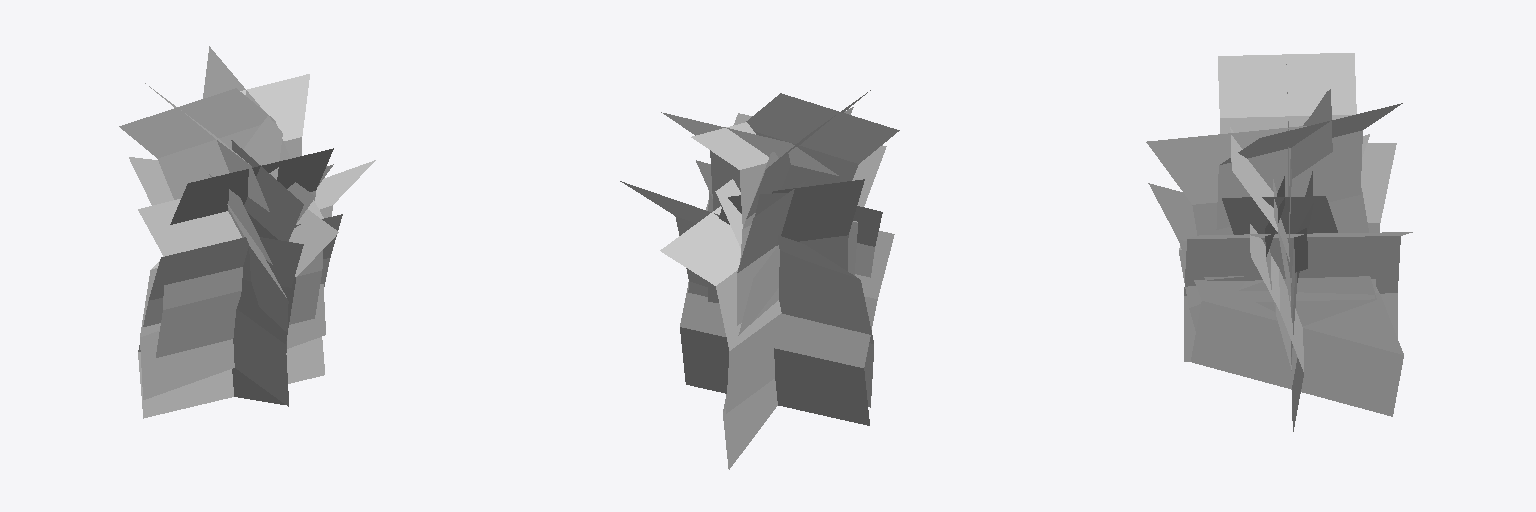
The picture shows the model from 3 angles: view 1: azimuth 30°, elevation 25°; view 2: azimuth 150°, elevation 25°; view 3: azimuth 270°, elevation 25°; orthographic projection.
Visible parts, largest first — view 1: trunk; view 2: trunk; view 3: trunk.
Part boxes in pixels (bbox=[...]): trunk: bbox=[119, 46, 375, 418]; trunk: bbox=[620, 90, 899, 469]; trunk: bbox=[1146, 53, 1412, 431].
Bounding box in the file's own units: 16.09 × 19.34 × 13.89.